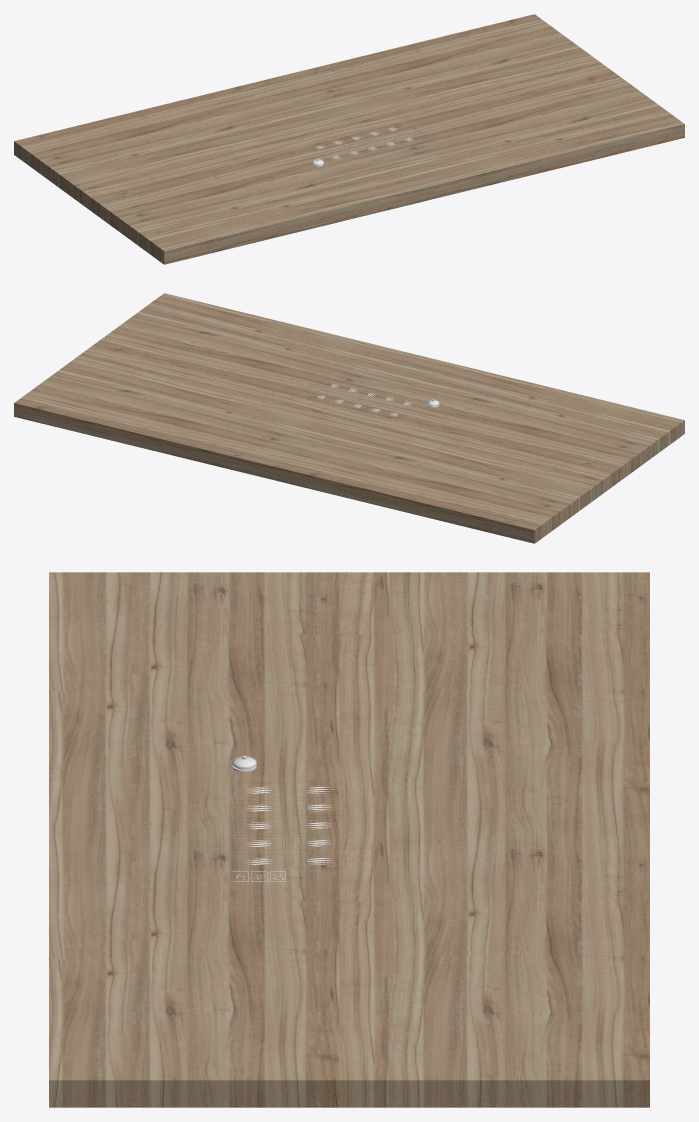
File: table.gltf
3 renders of one model, top to bottom at view 1: azimuth 30°, elevation 25°; view 2: azimuth 150°, elevation 25°; view 3: azimuth 270°, elevation 25°, orthographic. The views are drawn at different scales.
Visible parts, largest first — view 1: table; view 2: table; view 3: table.
Part boxes in pixels (box(x1,y1,x2,y2)): table: box(14, 14, 684, 264); table: box(14, 293, 684, 543); table: box(49, 572, 649, 1107).
Size of the model in its own units: 2 by 0.0997 by 1.
8 materials, 5 textured.
